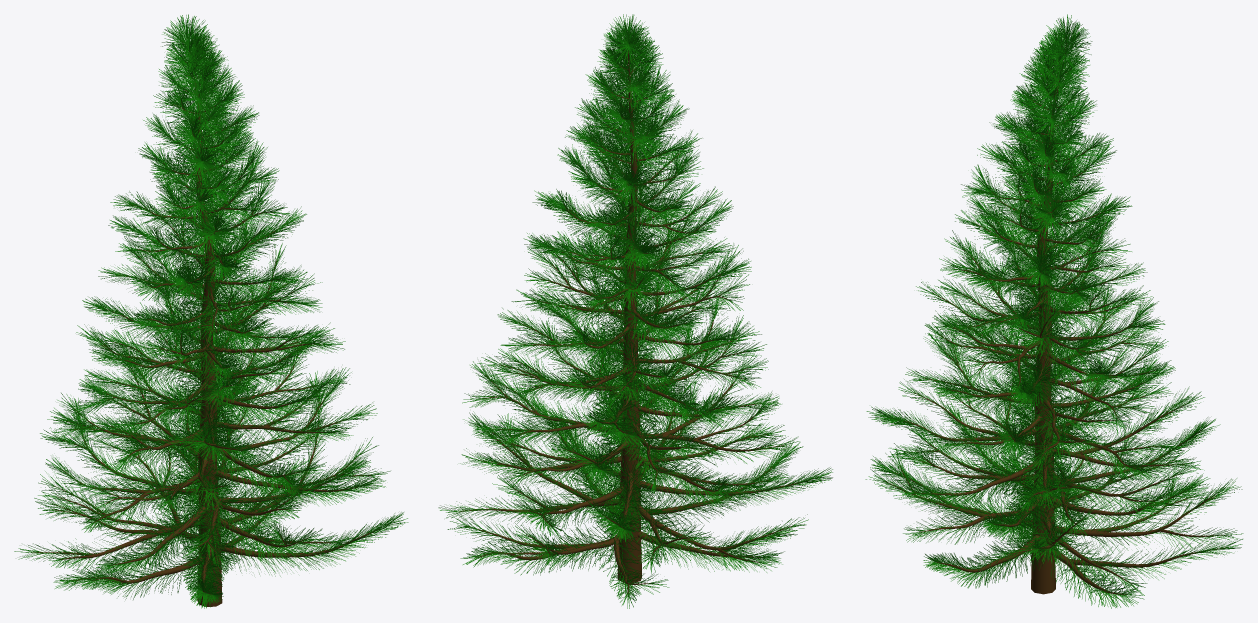
Rendered from tree.fbx.
3 renders of one model, left to right at view 1: azimuth 30°, elevation 25°; view 2: azimuth 150°, elevation 25°; view 3: azimuth 270°, elevation 25°, orthographic. The views are drawn at different scales.
Parts seen in each view (by area): view 1: leaves, tree; view 2: leaves, tree; view 3: leaves, tree.
Boxes of the visible parts, x1,y1,x2,y2 form: leaves: (14,14,408,608); tree: (32,38,387,606); leaves: (438,14,832,608); tree: (459,50,813,595); leaves: (865,14,1243,608); tree: (885,38,1226,594).
Size of the model in its own units: 299 by 490 by 297.
